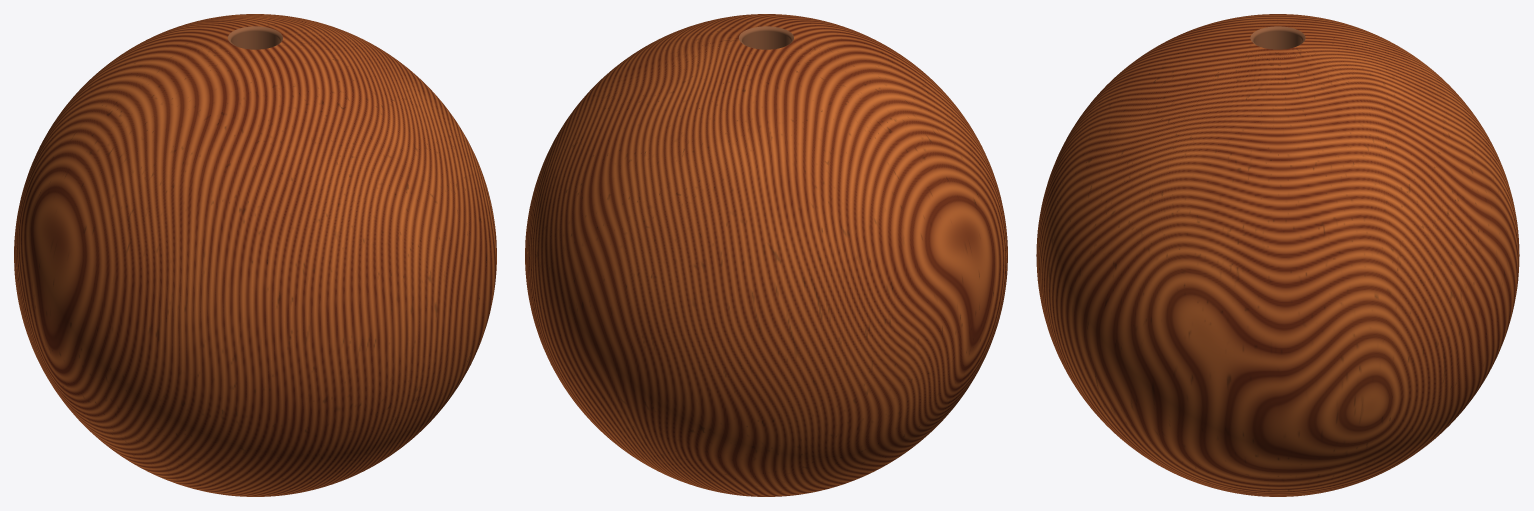
The model's file is wood-brazil-rosewood-10mm.glb.
3 views of the same model, side by side, from view 1: azimuth 30°, elevation 25°; view 2: azimuth 150°, elevation 25°; view 3: azimuth 270°, elevation 25° (orthographic).
Parts seen in each view (by area): view 1: brazil-rosewood; view 2: brazil-rosewood; view 3: brazil-rosewood.
Boxes of the visible parts, left/top/right/bottom form: brazil-rosewood: left=14, top=14, right=496, bottom=496; brazil-rosewood: left=525, top=14, right=1007, bottom=496; brazil-rosewood: left=1036, top=14, right=1519, bottom=496.
Size of the model in its own units: 0.01 by 0.00993 by 0.01.
Materials: 2 (1 with a texture image).
